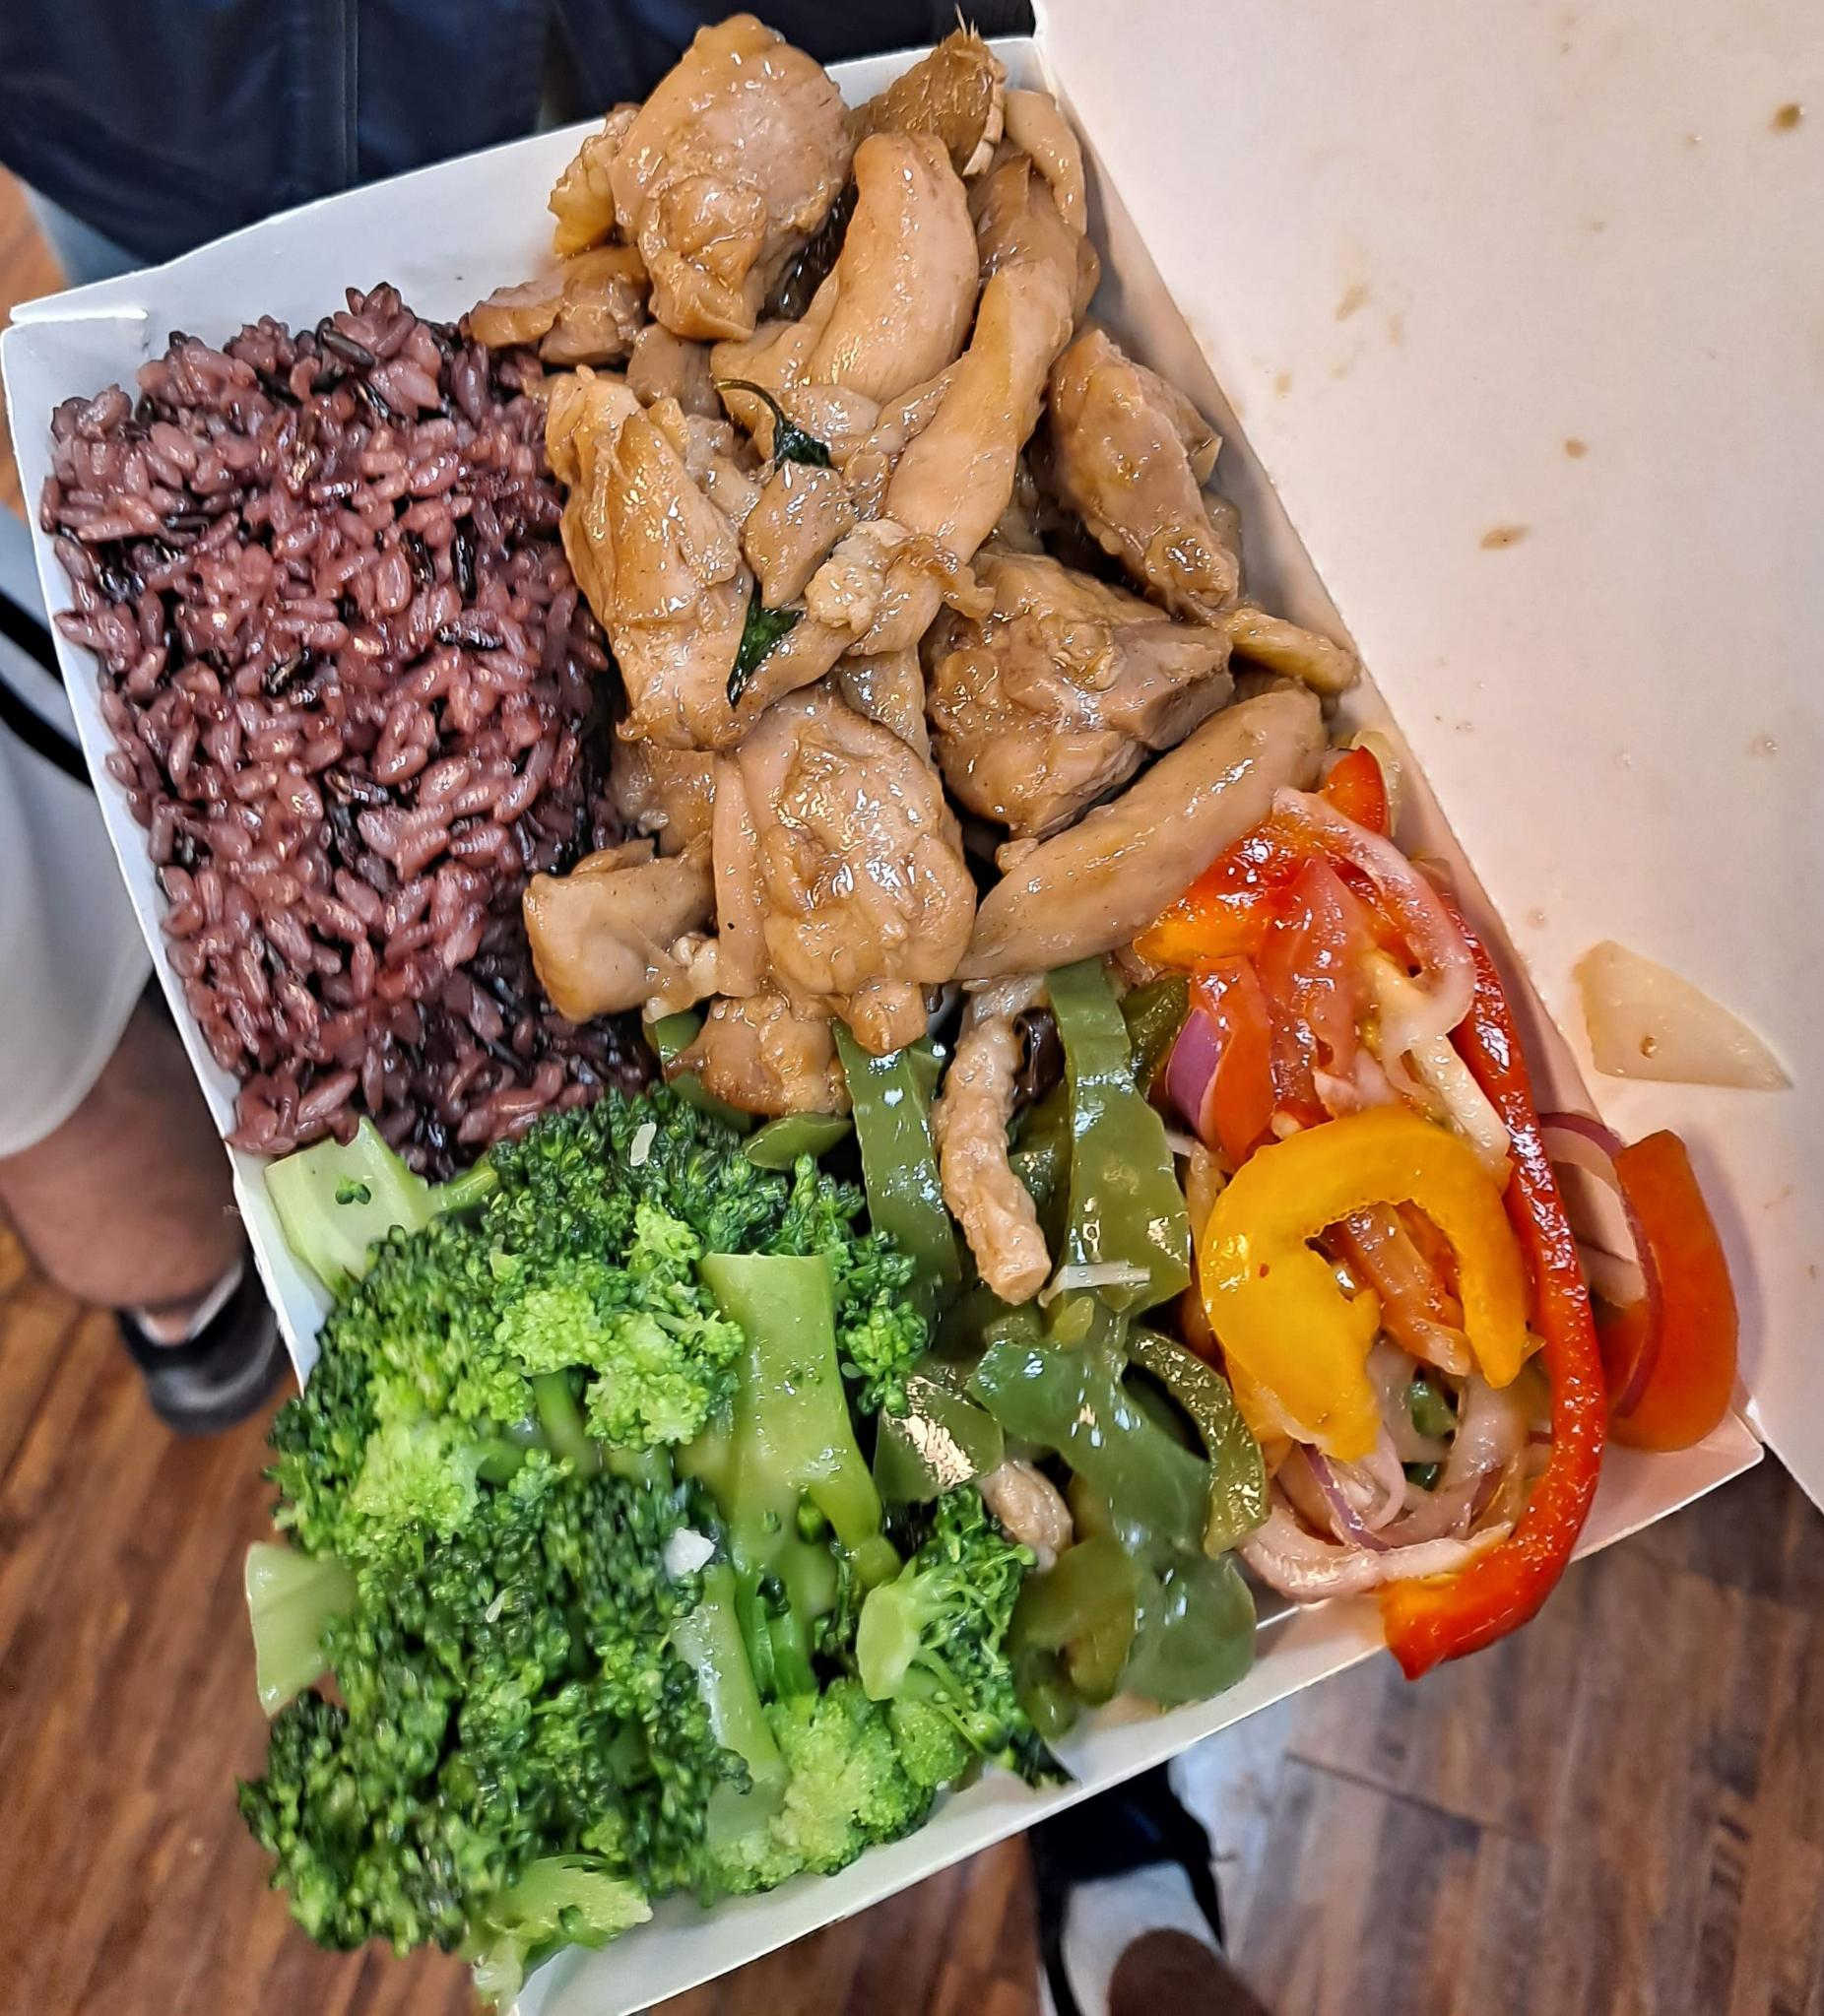big grilled chicken leg: (12, 32, 1794, 2016)
braised fish: (37, 297, 613, 1163)
braised fish fillet: (241, 1084, 1016, 1953), (1129, 780, 1740, 1672), (830, 968, 1255, 1693)
braised pork: (488, 33, 1329, 1110)
